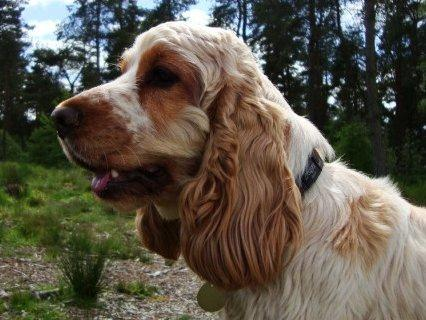dog-english_cocker_spaniel: (49, 19, 301, 288)
